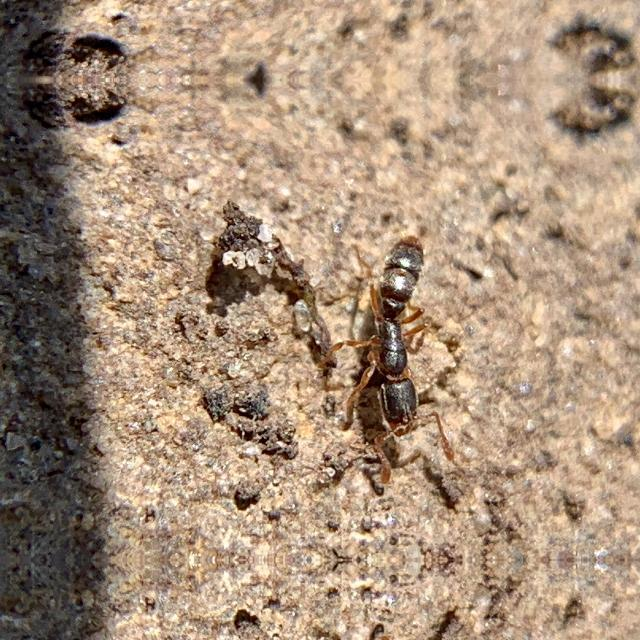Ponera: (338, 201, 462, 479)
